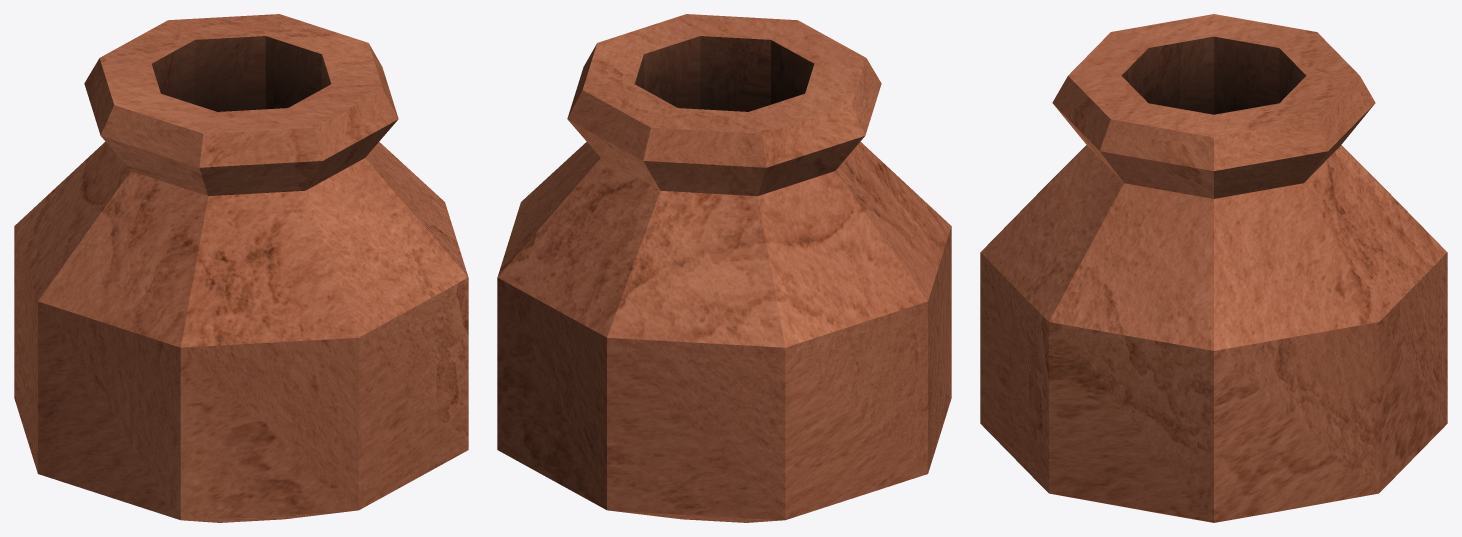
The model's file is Vase.glb.
3 views of the same model, side by side, from view 1: azimuth 30°, elevation 25°; view 2: azimuth 150°, elevation 25°; view 3: azimuth 270°, elevation 25° (orthographic).
Parts seen in each view (by area): view 1: Cylinder; view 2: Cylinder; view 3: Cylinder.
Boxes of the visible parts, bbox=[...] form: Cylinder: bbox=[14, 14, 468, 522]; Cylinder: bbox=[497, 14, 951, 522]; Cylinder: bbox=[980, 14, 1447, 522].
Bounding box in the file's own units: 1 × 0.9724 × 1.
Materials: 1 (1 with a texture image).
